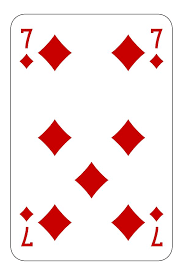seven of diamonds: (11, 15, 173, 260)
